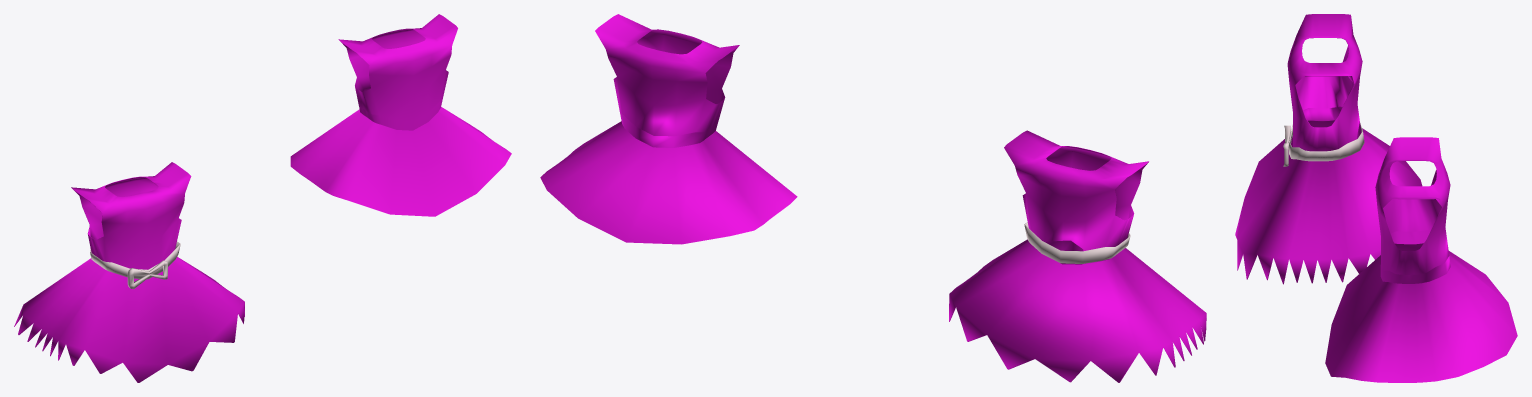
File: pembe kurdaleli elbise.fbx
3 views of the same model, side by side, from view 1: azimuth 30°, elevation 25°; view 2: azimuth 150°, elevation 25°; view 3: azimuth 270°, elevation 25° (orthographic). The views are drawn at different scales.
Visible parts, largest first — view 1: Cube.002, Cube.003; view 2: Cube.002, Cube.003; view 3: Cube.003, Cube.002.
Boxes of the visible parts, left/top/right/bottom form: Cube.002: left=14, top=162, right=244, bottom=382; Cube.003: left=290, top=14, right=511, bottom=216; Cube.002: left=949, top=130, right=1206, bottom=382; Cube.003: left=540, top=14, right=797, bottom=244; Cube.003: left=1325, top=137, right=1517, bottom=382; Cube.002: left=1235, top=14, right=1422, bottom=284.
Bounding box in the file's own units: 1629 × 689 × 652.
